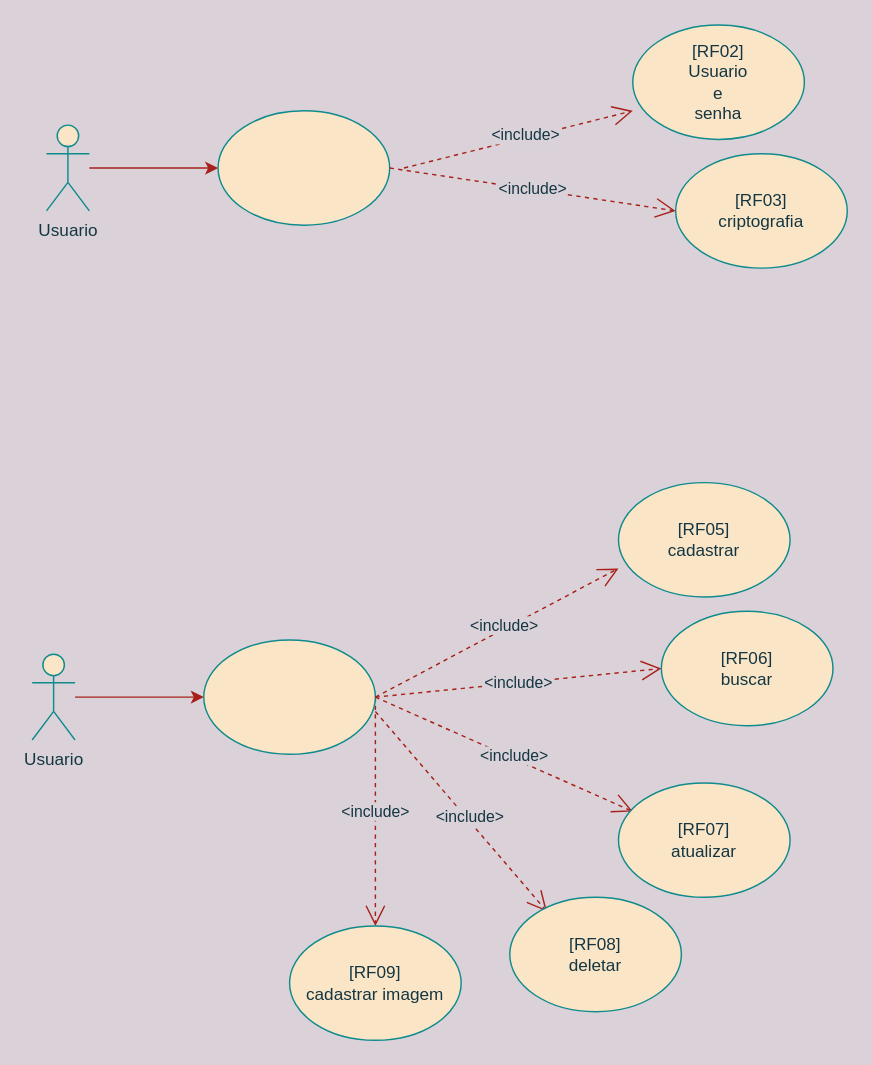
Image size: 872x1065. Some labels were removed from this diagram. The centre of each missing label's shape, as x and y in pixels:
"[RF01] Tela Login" belongs at [303,167].
"[RF04] Tela cadastro Produtos" belongs at [288,696].
